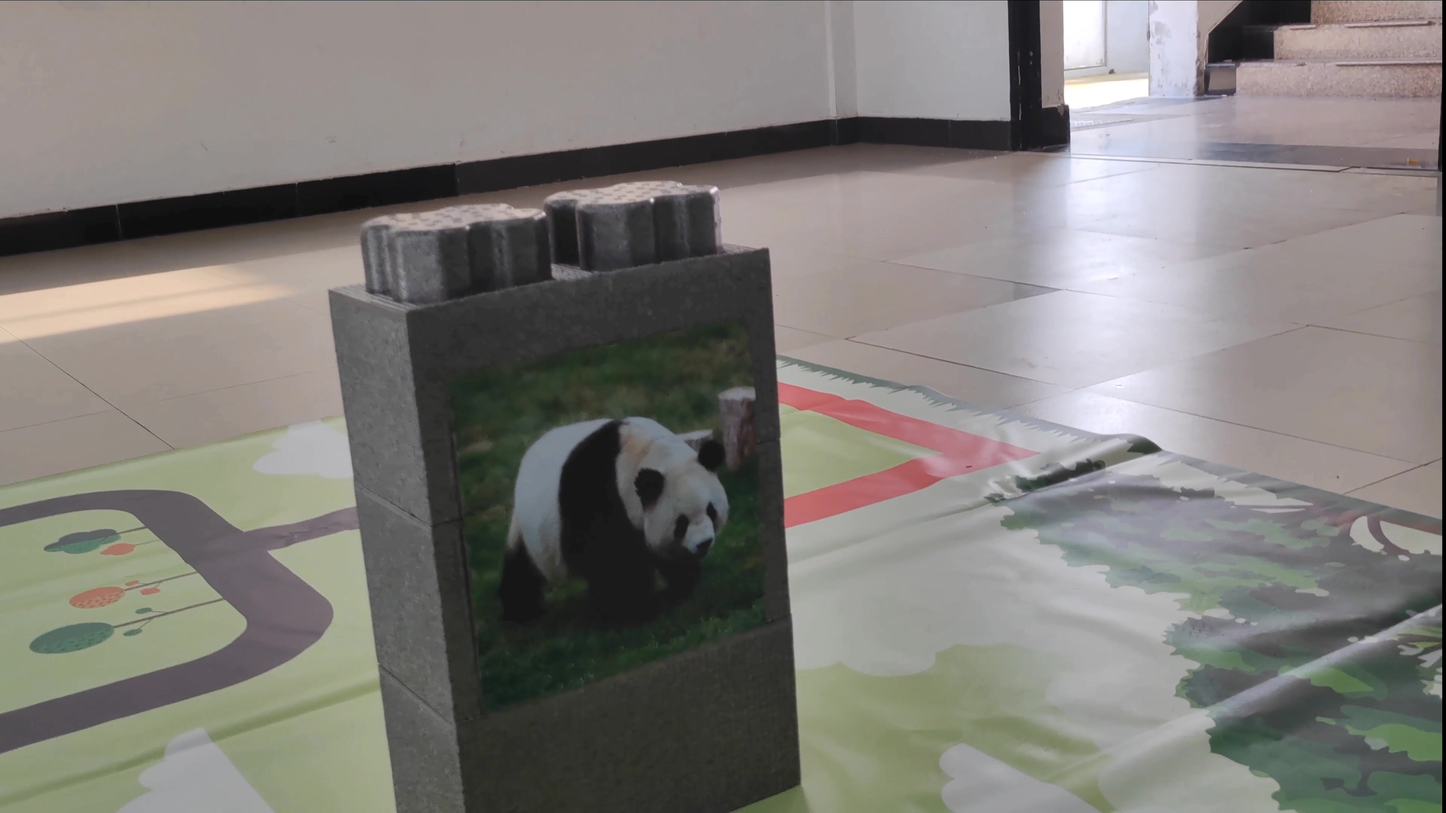panda: (481, 394, 754, 621)
